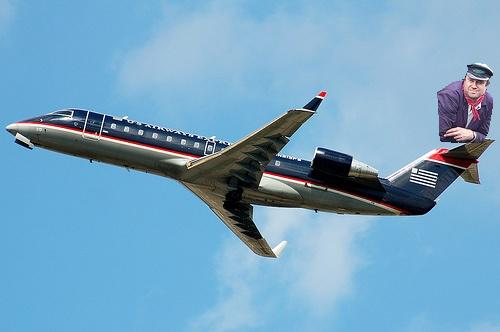tampered: (438, 64, 493, 143)
